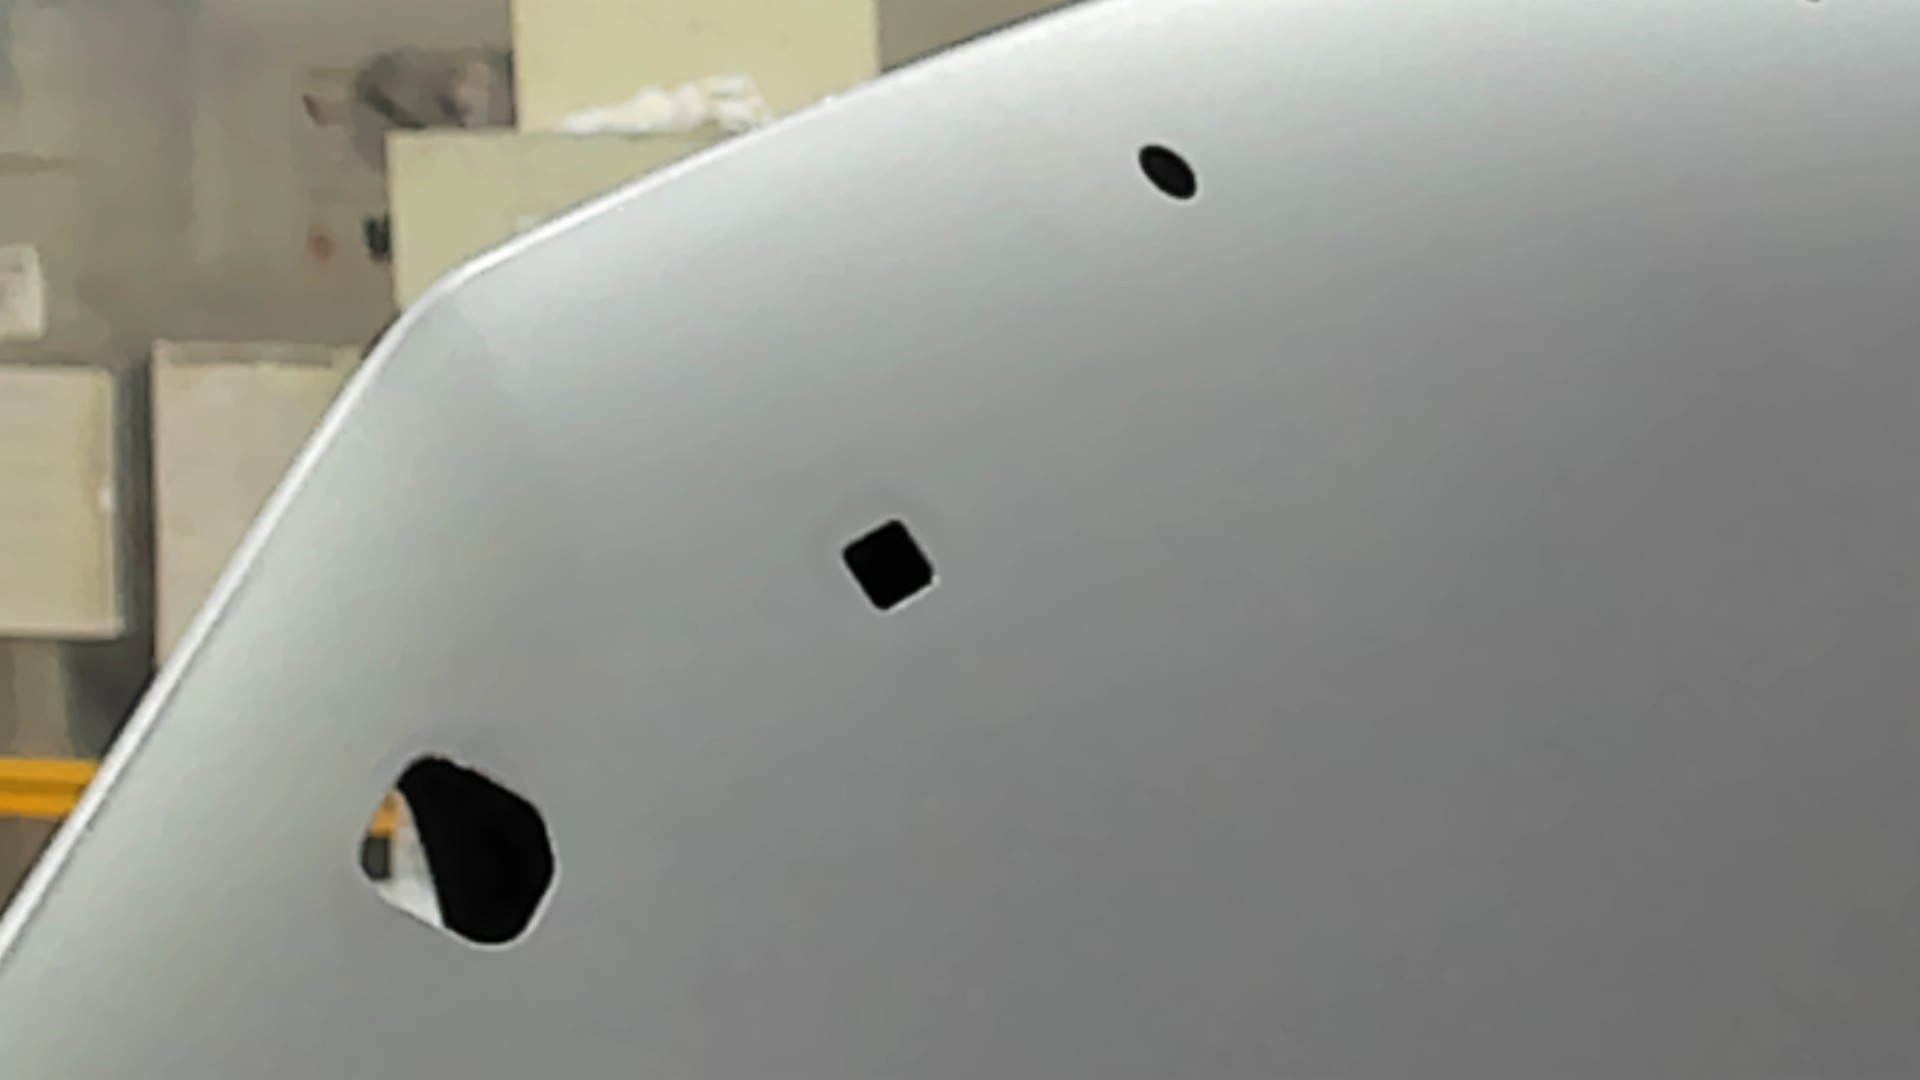capo: (940, 208, 1920, 1080)
chico: (1131, 140, 1200, 208)
grande: (349, 750, 564, 955)
mediano: (836, 512, 945, 622)
